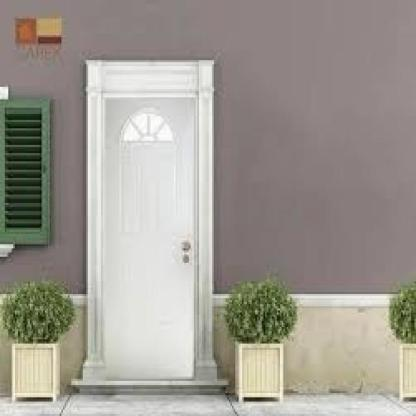door: (75, 51, 221, 395)
